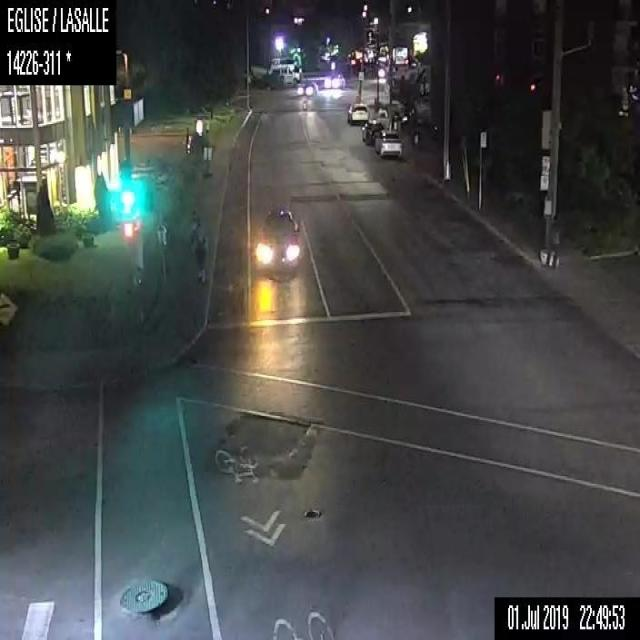pedestrian: (187, 208, 209, 283)
vehicle: (256, 209, 299, 272), (374, 130, 402, 157), (270, 61, 301, 85), (362, 117, 383, 145), (347, 100, 369, 124), (296, 77, 318, 96), (322, 71, 345, 88)
